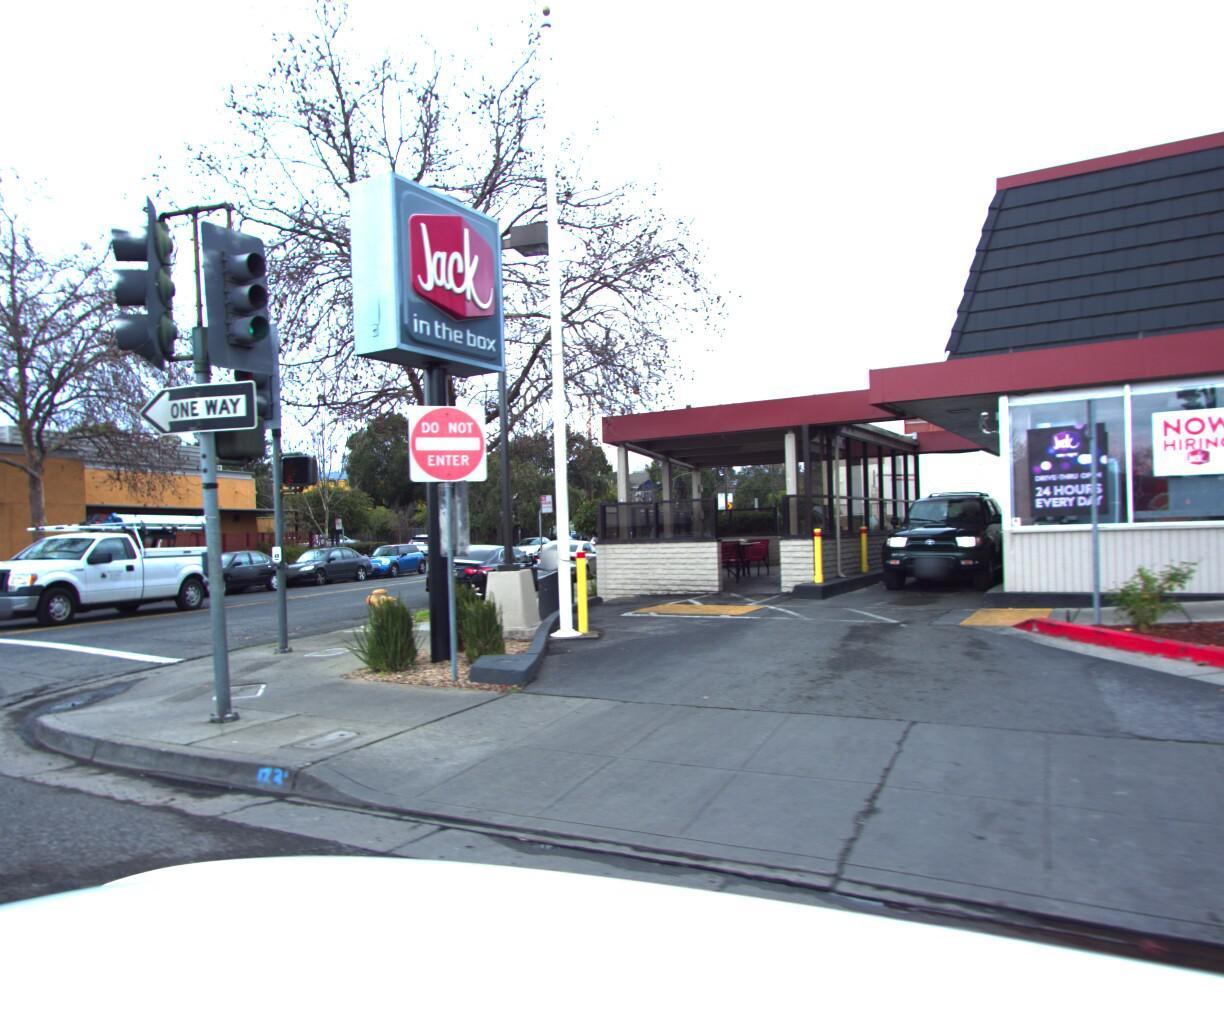car: (0, 507, 248, 642), (864, 479, 1011, 592), (418, 534, 555, 604), (151, 543, 297, 595), (261, 538, 376, 588), (525, 531, 614, 580), (349, 537, 431, 575), (504, 529, 561, 557), (407, 526, 463, 554)
